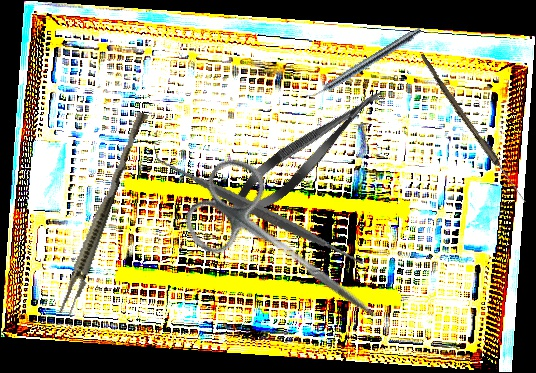Handpiece: (303, 23, 424, 105)
Iris Scissors: (172, 148, 407, 353)
Micro Scissor: (220, 78, 393, 229)
Spatula Surgical: (153, 105, 367, 317)
Surgical Spoon: (416, 53, 530, 205)
Tissue Forceps: (57, 108, 149, 319)
